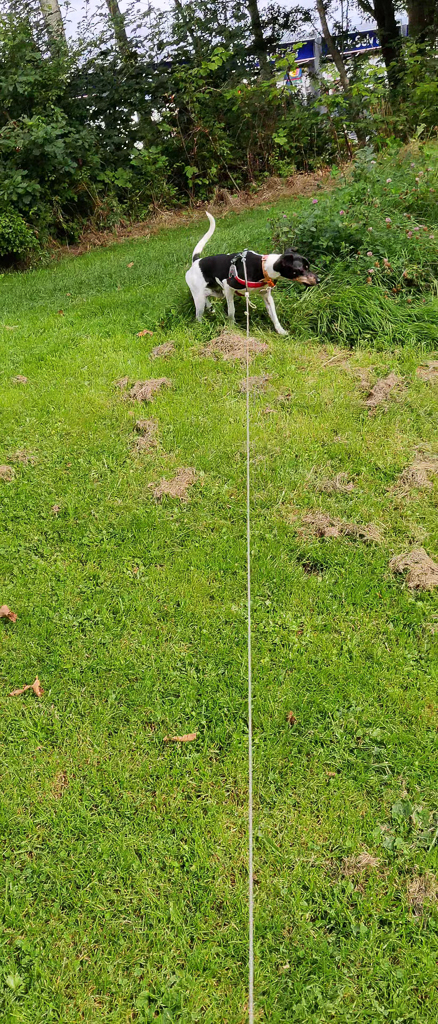Dog: (175, 207, 334, 347)
